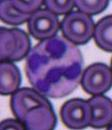N: (25, 36, 84, 98)
